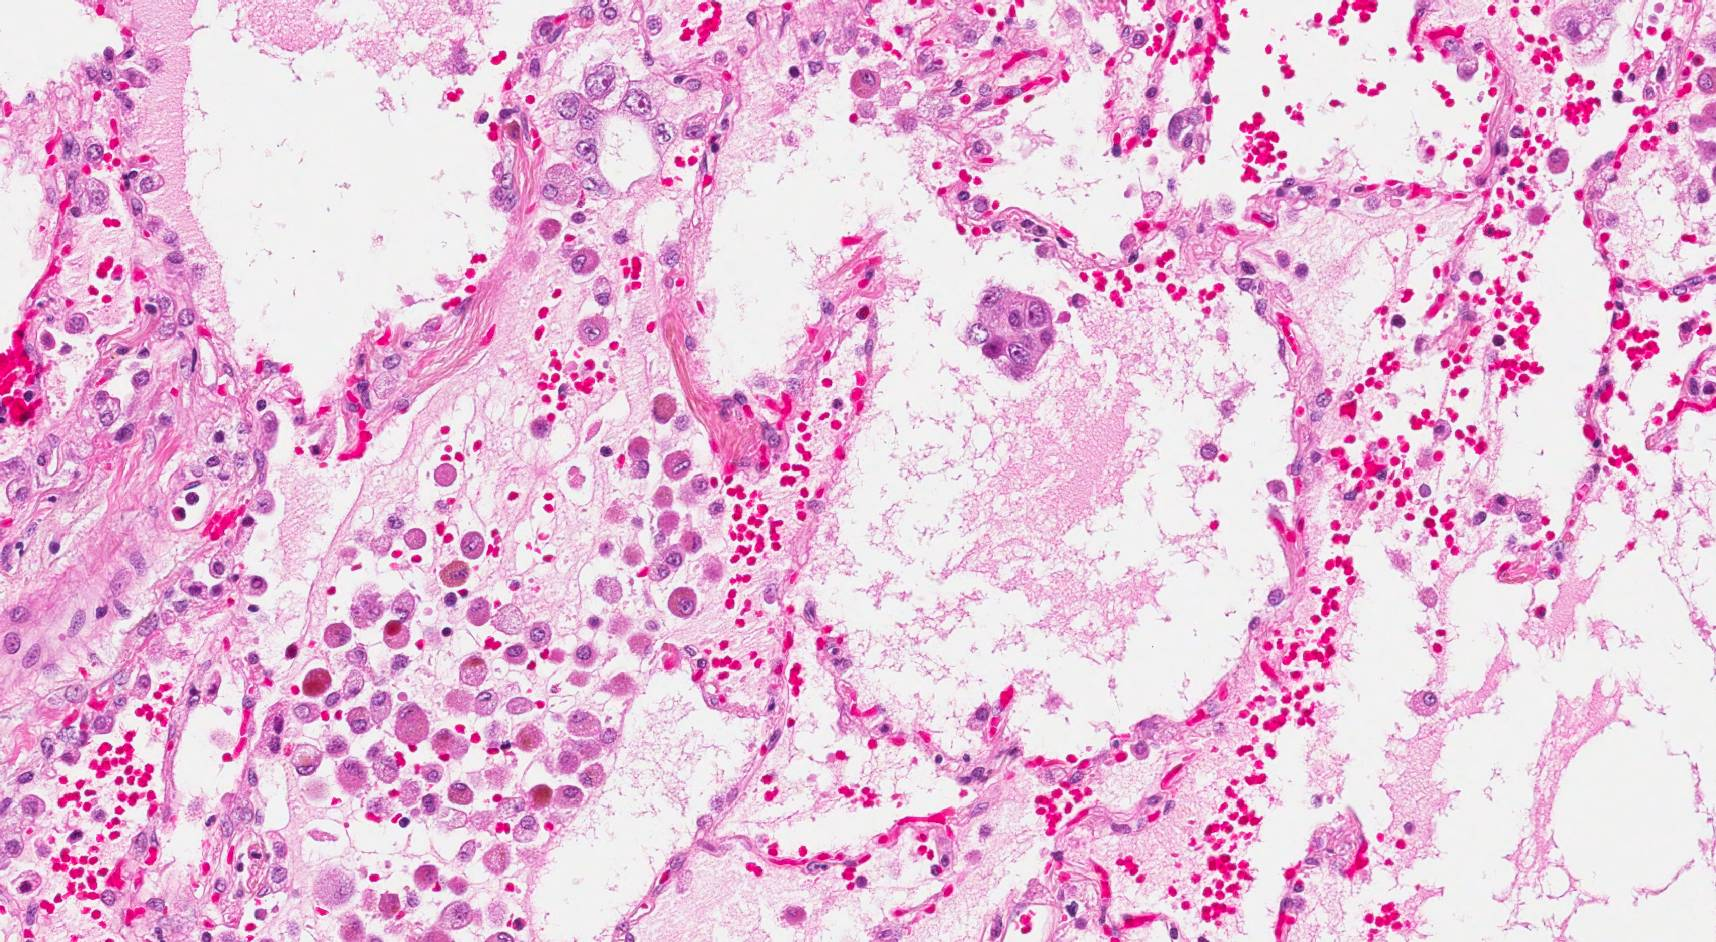stas: (539, 60, 679, 201), (963, 285, 1057, 382)
